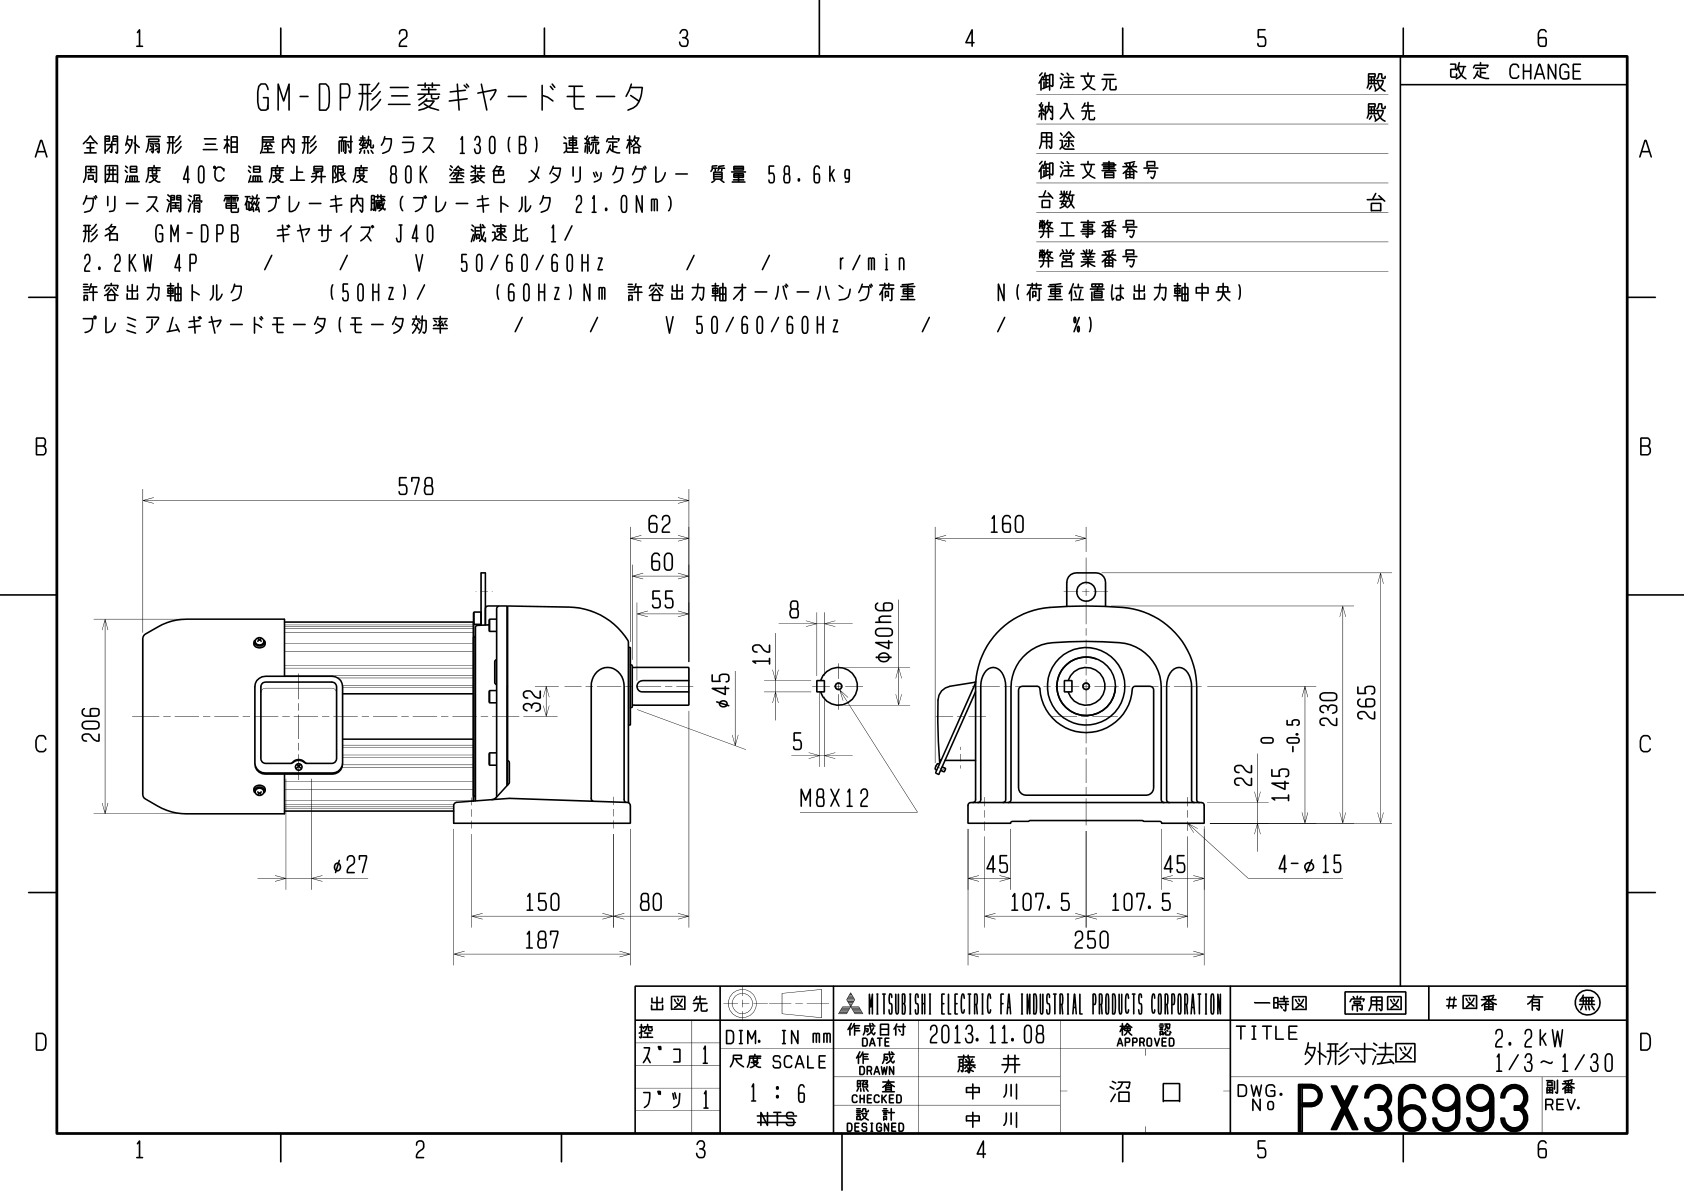GM_D_屋内＿三相_脚: (1, 1, 1674, 1176)
